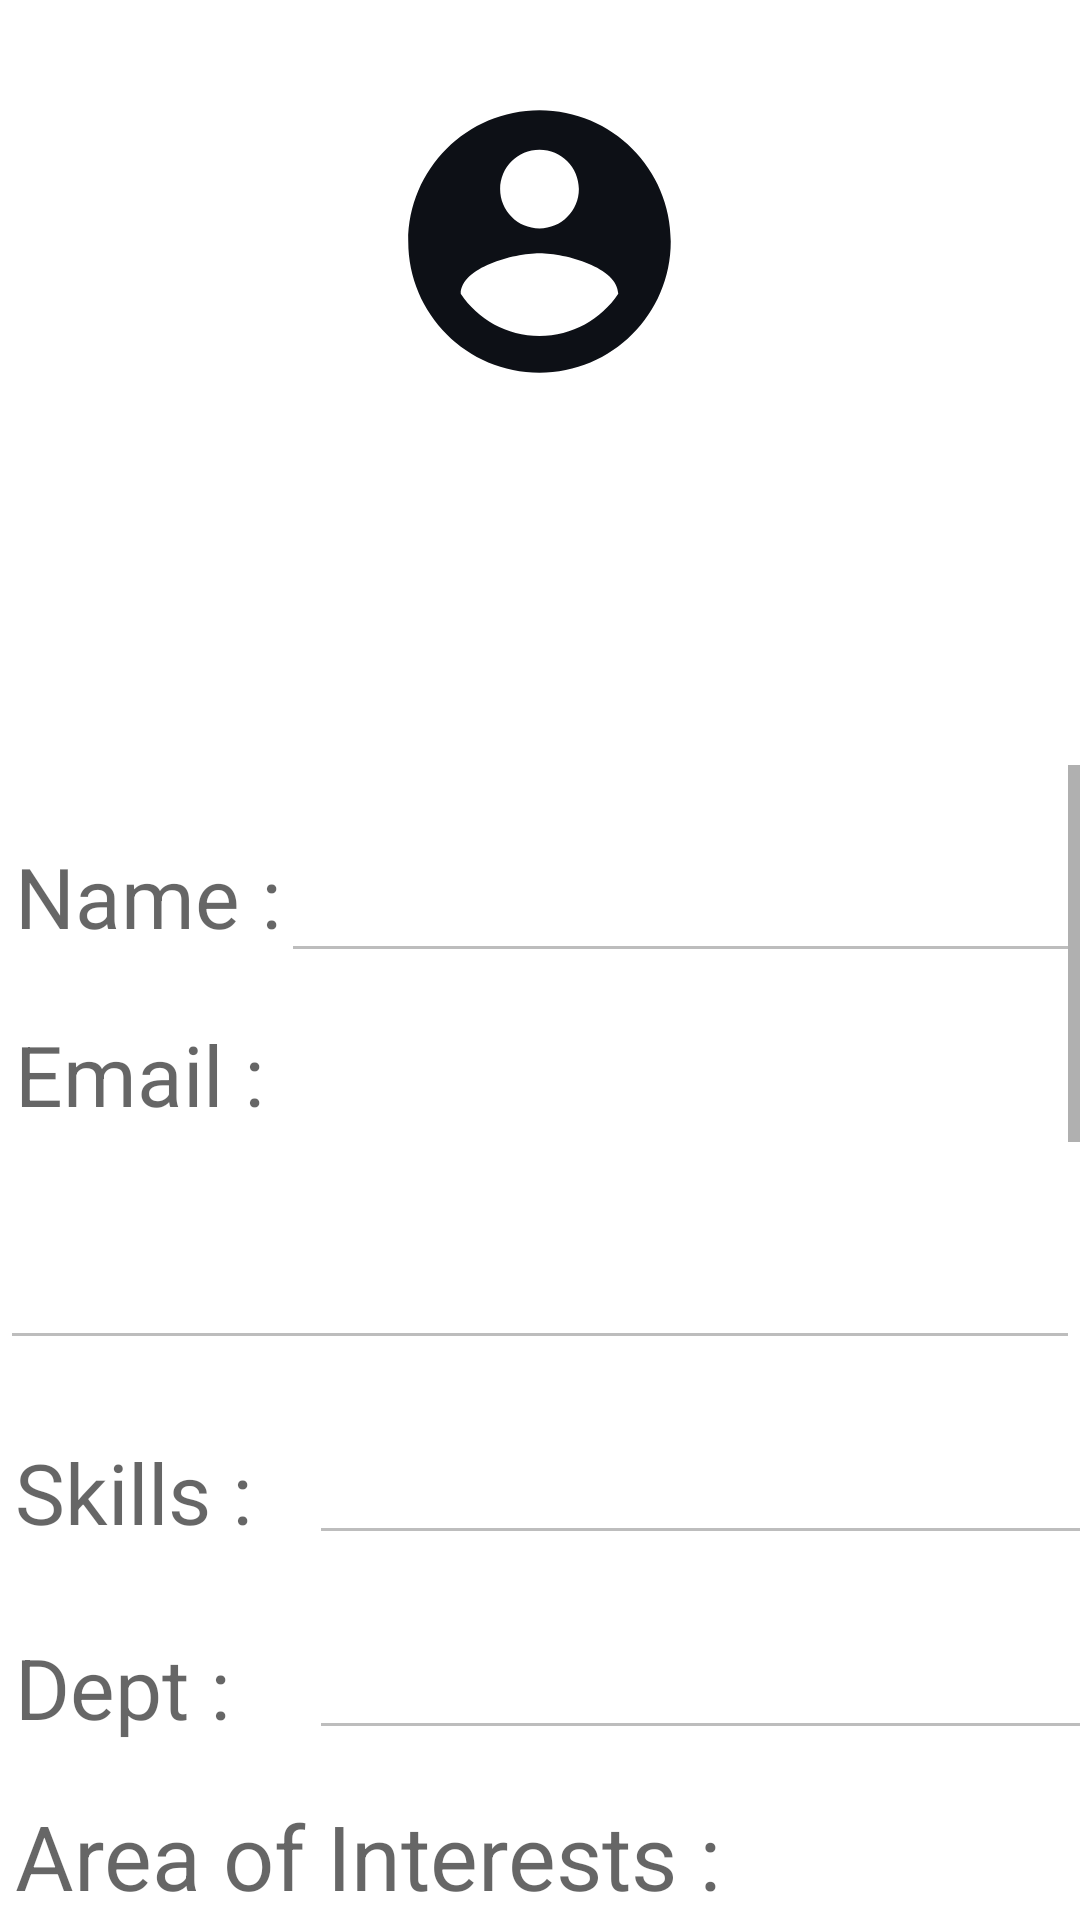

Screen size 1080x1920. Icon name, then its box in pixels as detection(x1, y1, x2, y2):
account circle: detection(408, 110, 671, 373)
